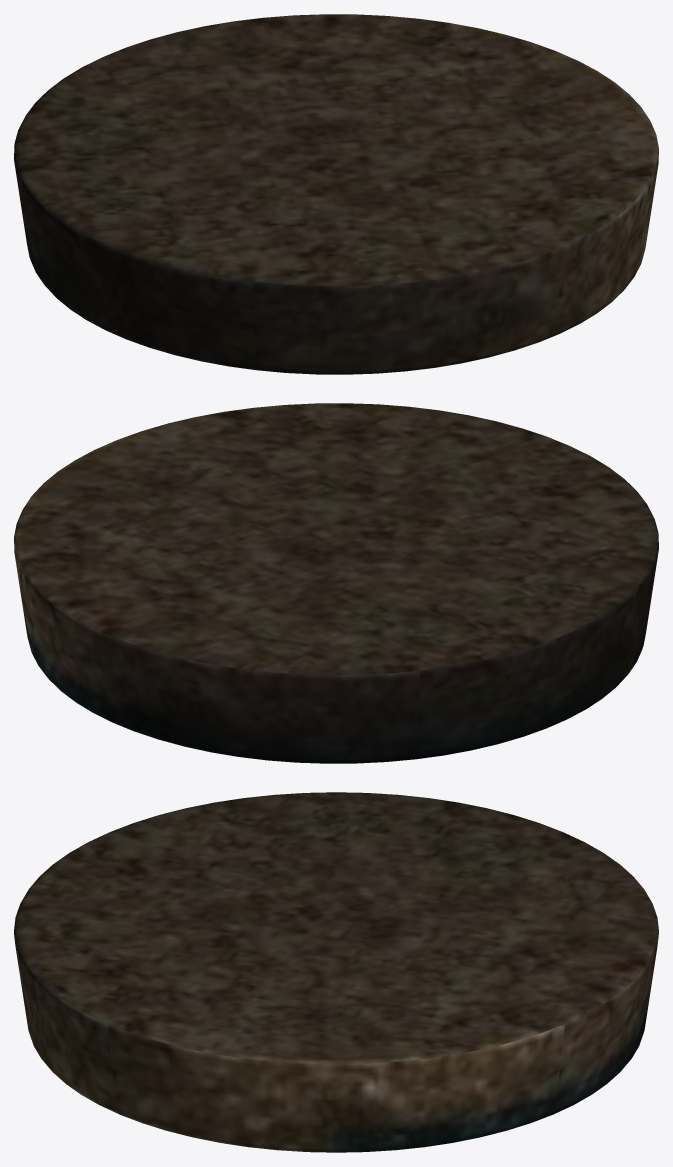
Rendered from bouchon.obj.
3 views of the same model, one above another, from view 1: azimuth 30°, elevation 25°; view 2: azimuth 150°, elevation 25°; view 3: azimuth 270°, elevation 25° (orthographic).
Visible parts, largest first — view 1: bouchon; view 2: bouchon; view 3: bouchon.
Boxes of the visible parts, x1,y1,x2,y2 form: bouchon: (14,14,658,374); bouchon: (14,403,658,763); bouchon: (14,792,658,1152).
Size of the model in its own units: 1286 by 215 by 1286.
